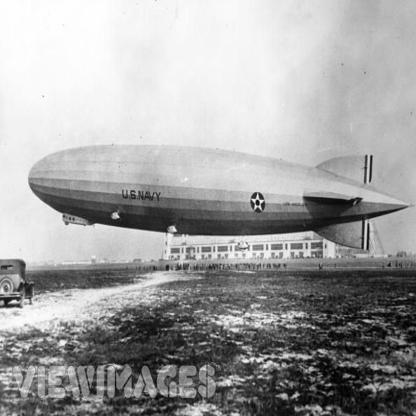Airship: (25, 144, 413, 253)
